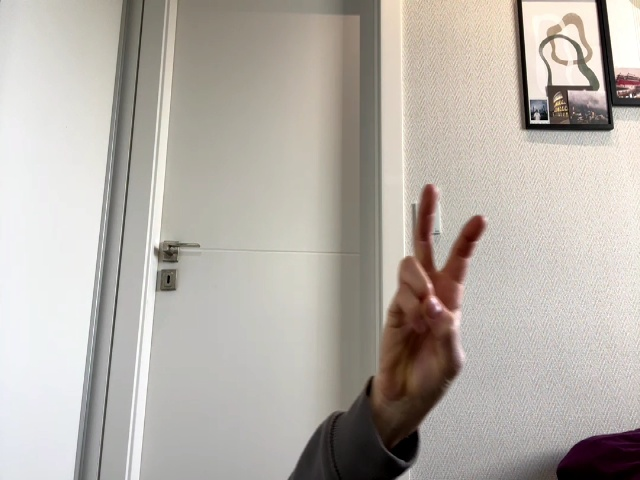H: (379, 185, 488, 425)
